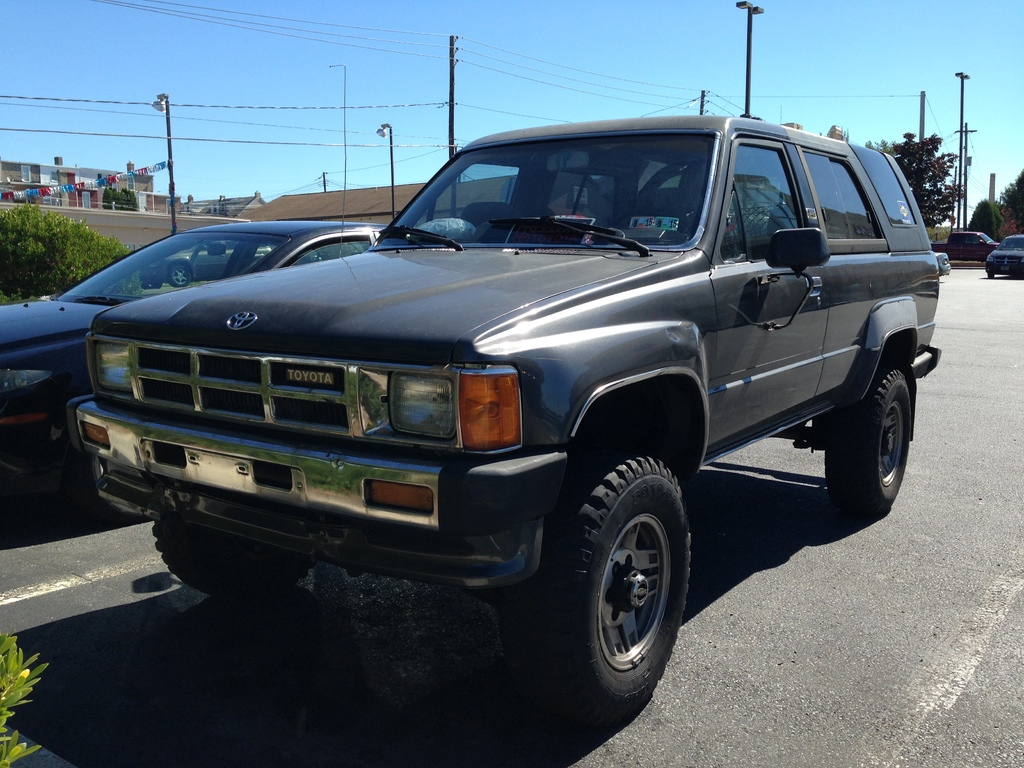Car: (51, 110, 964, 698), (1, 222, 394, 489), (981, 236, 1023, 279)
